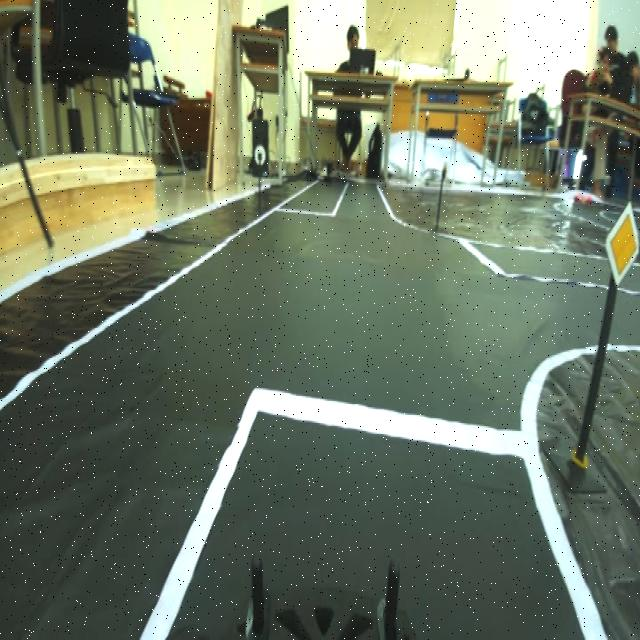priority: (602, 198, 638, 292)
